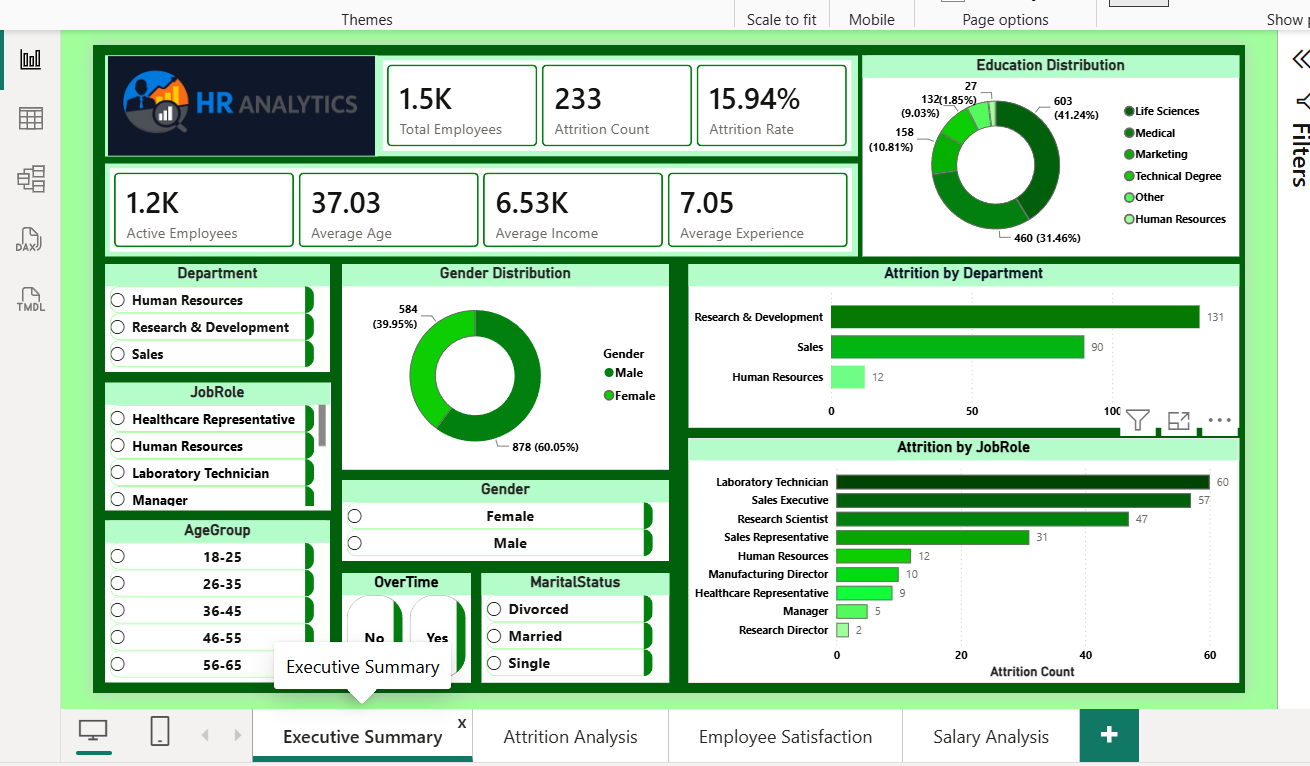

What the dashboard file says about the page in this screenshot:
{"tool":"powerbi","page":{"name":"Executive Summary","canvas":[1280,720],"ordinal":0},"visuals":[{"type":"cardVisual","fields":{"Data":["hr_Cleaned.Total Employees","hr_Cleaned.Attrition Count","hr_Cleaned.Attrition Rate"]},"box":[316,11.7,533.3,111.7],"z":0},{"type":"image","box":[13.3,11.7,303.3,111.7],"z":1000},{"type":"cardVisual","fields":{"Data":["hr_Cleaned.Active Employees","hr_Cleaned.Average Age","hr_Cleaned.Average Income","hr_Cleaned.Average Experience"]},"box":[13.3,131.7,836.7,103.3],"z":2000},{"type":"clusteredBarChart","title":"Attrition by Department","fields":{"Category":["hr_Cleaned.Department"],"Y":["hr_Cleaned.Attrition Count"]},"box":[661.7,243.3,611.7,181.7],"z":3000},{"type":"barChart","title":"Attrition by JobRole","fields":{"Category":["hr_Cleaned.JobRole"],"Y":["hr_Cleaned.Attrition Count"]},"box":[661.7,436.7,611.7,271.7],"z":4000},{"type":"donutChart","title":"Gender Distribution","fields":{"Category":["hr_Cleaned.Gender"],"Y":["Sum(hr_Cleaned.EmployeeCount)"]},"box":[276.7,243.3,363.3,228.3],"z":5000},{"type":"donutChart","title":"Education Distribution","fields":{"Category":["hr_Cleaned.EducationField"],"Y":["Sum(hr_Cleaned.EmployeeCount)"]},"box":[855,11.7,418.3,223.3],"z":6000},{"type":"listSlicer","fields":{"Values":["hr_Cleaned.Department"]},"box":[13.3,243.3,250,120],"z":7000},{"type":"listSlicer","fields":{"Values":["hr_Cleaned.JobRole"]},"box":[13.3,375,250,141.7],"z":8000},{"type":"listSlicer","fields":{"Values":["hr_Cleaned.AgeGroup"]},"box":[13.3,528.3,250,180],"z":9000},{"type":"listSlicer","fields":{"Values":["hr_Cleaned.Gender"]},"box":[276.7,483.3,363.3,90],"z":10000},{"type":"advancedSlicerVisual","fields":{"Values":["hr_Cleaned.OverTime"]},"box":[276.7,586.7,143.3,121.7],"z":11000},{"type":"listSlicer","fields":{"Values":["hr_Cleaned.MaritalStatus"]},"box":[431.7,586.7,208.3,121.7],"z":12000}]}

Visuals, with their boxes on the page's 1280x720 design canvas (x1, y1, x2, y2). These are canvas units, not pixel positions in the 1310x766 screenshot, which may show the page scaled, cropped or inside an application window:
cardVisual - hr_Cleaned.Total Employees x hr_Cleaned.Attrition Count: x1=316, y1=12, x2=849, y2=123
image: x1=13, y1=12, x2=317, y2=123
cardVisual - hr_Cleaned.Active Employees x hr_Cleaned.Average Age: x1=13, y1=132, x2=850, y2=235
"Attrition by Department" clusteredBarChart: x1=662, y1=243, x2=1273, y2=425
"Attrition by JobRole" barChart: x1=662, y1=437, x2=1273, y2=708
"Gender Distribution" donutChart: x1=277, y1=243, x2=640, y2=472
"Education Distribution" donutChart: x1=855, y1=12, x2=1273, y2=235
listSlicer - hr_Cleaned.Department: x1=13, y1=243, x2=263, y2=363
listSlicer - hr_Cleaned.JobRole: x1=13, y1=375, x2=263, y2=517
listSlicer - hr_Cleaned.AgeGroup: x1=13, y1=528, x2=263, y2=708
listSlicer - hr_Cleaned.Gender: x1=277, y1=483, x2=640, y2=573
advancedSlicerVisual - hr_Cleaned.OverTime: x1=277, y1=587, x2=420, y2=708
listSlicer - hr_Cleaned.MaritalStatus: x1=432, y1=587, x2=640, y2=708
